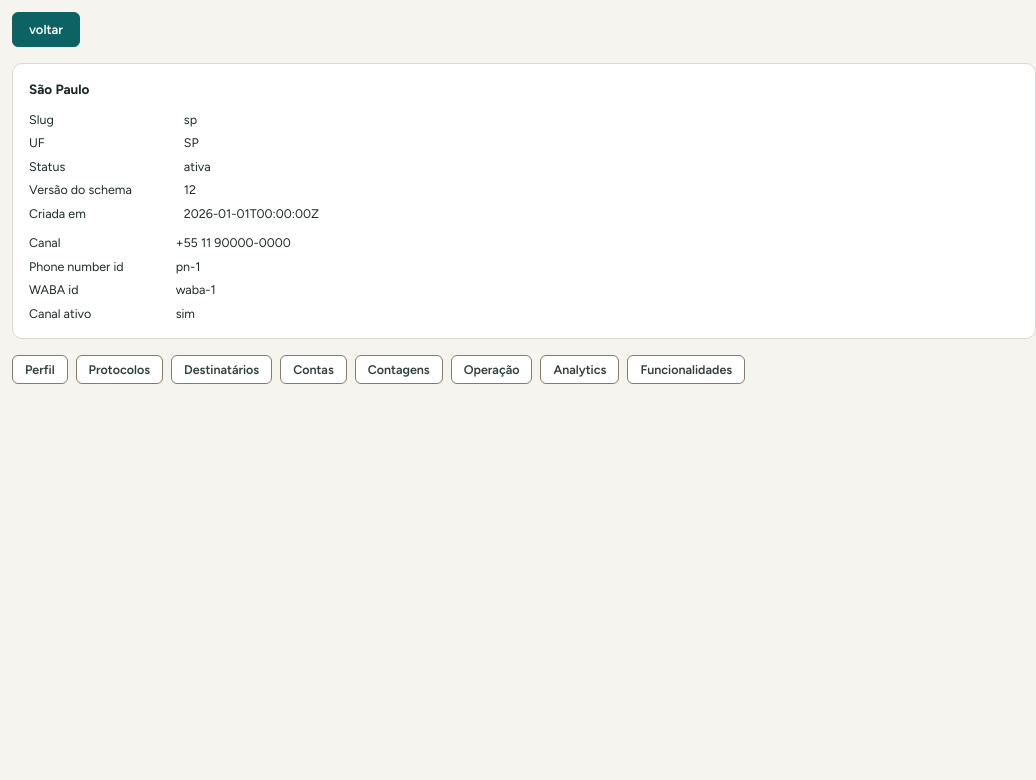
Test: CityDetail › api antiga: só a aba Analytics falha; o topo e as outras abas seguem
Expected: the heading "São Paulo" is shown, left=29, top=80, right=89, bottom=99
What coordinates should you click on to do the following:
click the button "Analytics"
I would click on:
 (580, 370)
Its box is left=540, top=355, right=619, bottom=384.
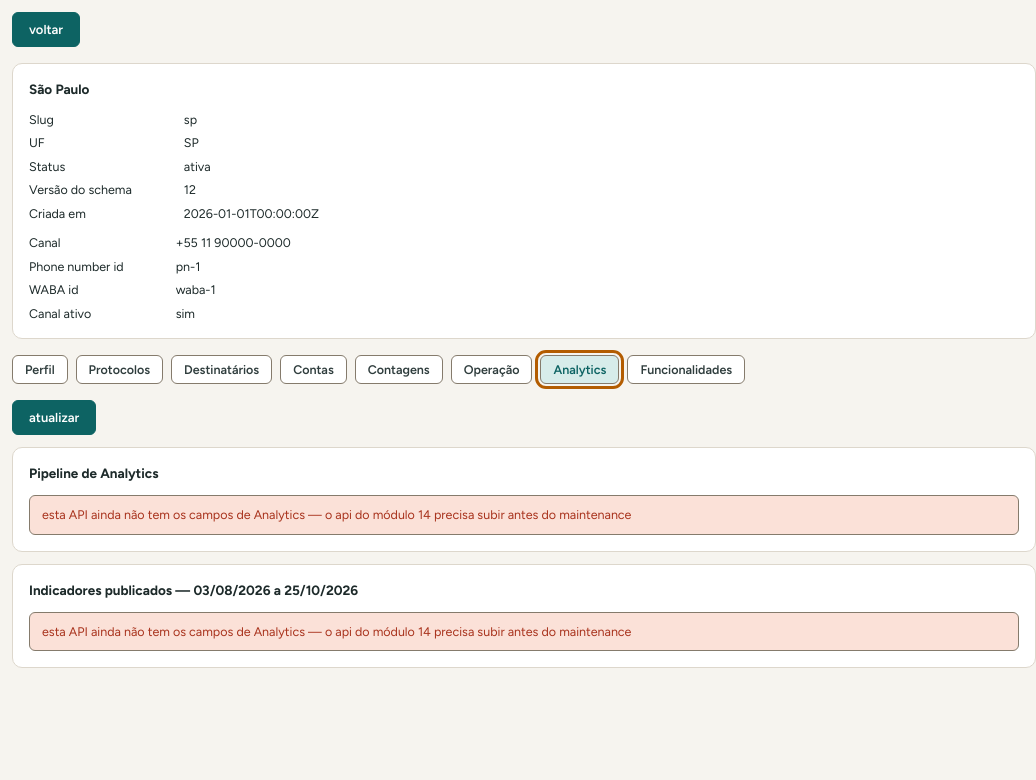
Now the number of messages is 2, box left=29, top=495, right=1019, bottom=535; left=29, top=612, right=1019, bottom=651
Now the message below "Pipeline de Analytics" shows "o api do módulo 14 precisa subir antes do maintenance", box left=42, top=507, right=632, bottom=522
Now the 2nd message shows "o api do módulo 14 precisa subir antes do maintenance", box left=42, top=624, right=632, bottom=639
What coordinates should you click on to do the following:
click the button "Perfil"
I would click on:
 (40, 370)
Its box is left=12, top=355, right=68, bottom=384.
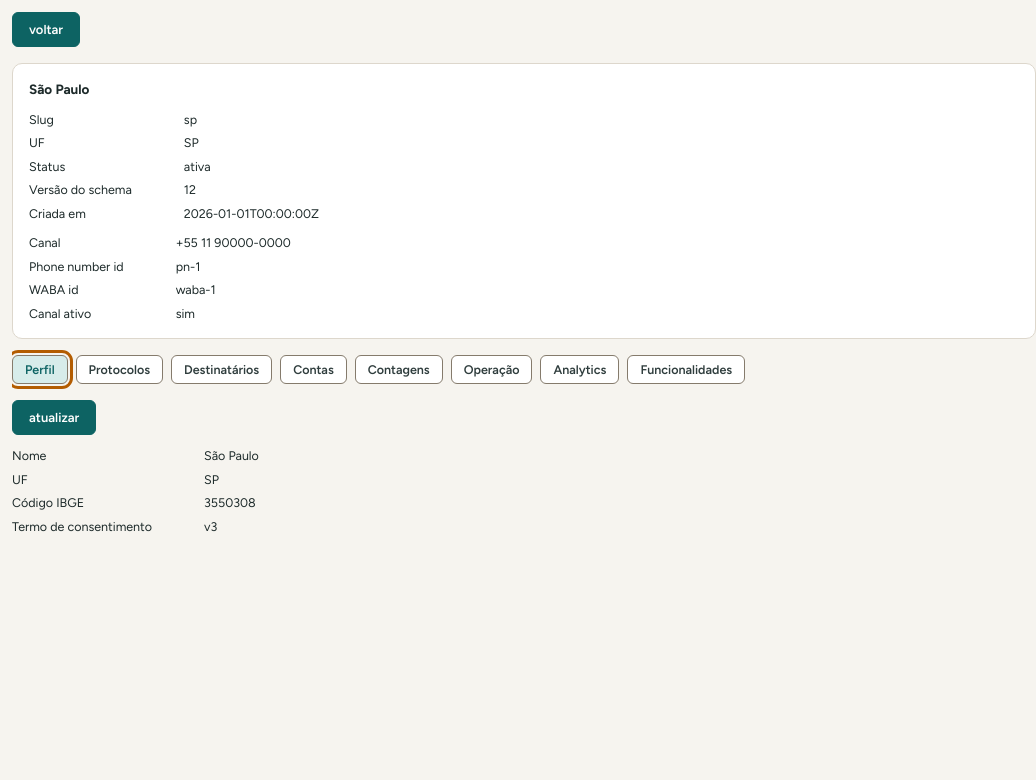
Now the text "3550308" is shown, box left=204, top=495, right=256, bottom=510
Now the message is gone
